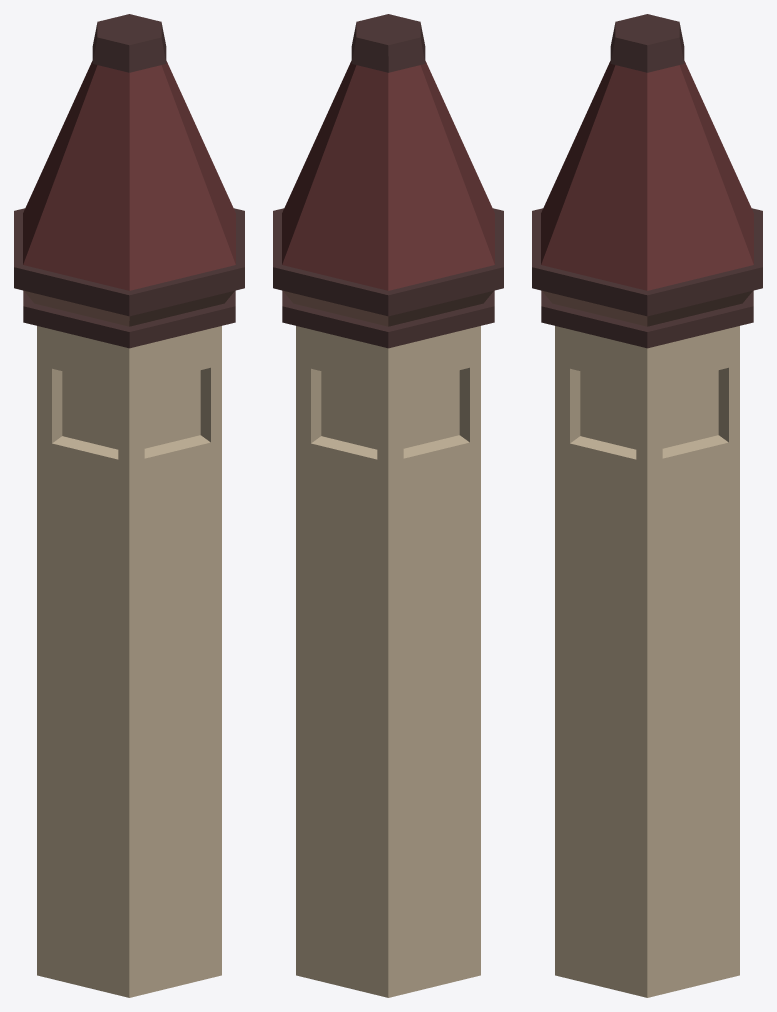
Rendered from LightSandStoneBuildingLargeTower1.fbx.
3 views of the same model, side by side, from view 1: azimuth 30°, elevation 25°; view 2: azimuth 150°, elevation 25°; view 3: azimuth 270°, elevation 25° (orthographic).
Visible parts, largest first — view 1: LightSandStoneBuildingLargeTower1; view 2: LightSandStoneBuildingLargeTower1; view 3: LightSandStoneBuildingLargeTower1.
Part boxes in pixels (box(x1,y1,x2,y2)): LightSandStoneBuildingLargeTower1: box(14, 14, 244, 997); LightSandStoneBuildingLargeTower1: box(273, 14, 503, 997); LightSandStoneBuildingLargeTower1: box(532, 14, 762, 997).
Bounding box in the file's own units: 836 × 3198 × 724.
